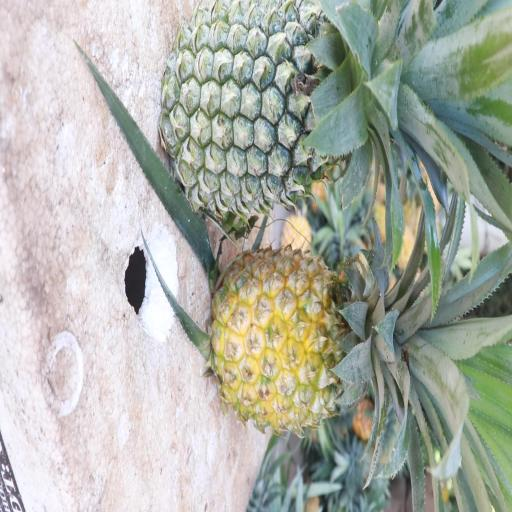Pineapple - v8 v1: (210, 227, 495, 483)
